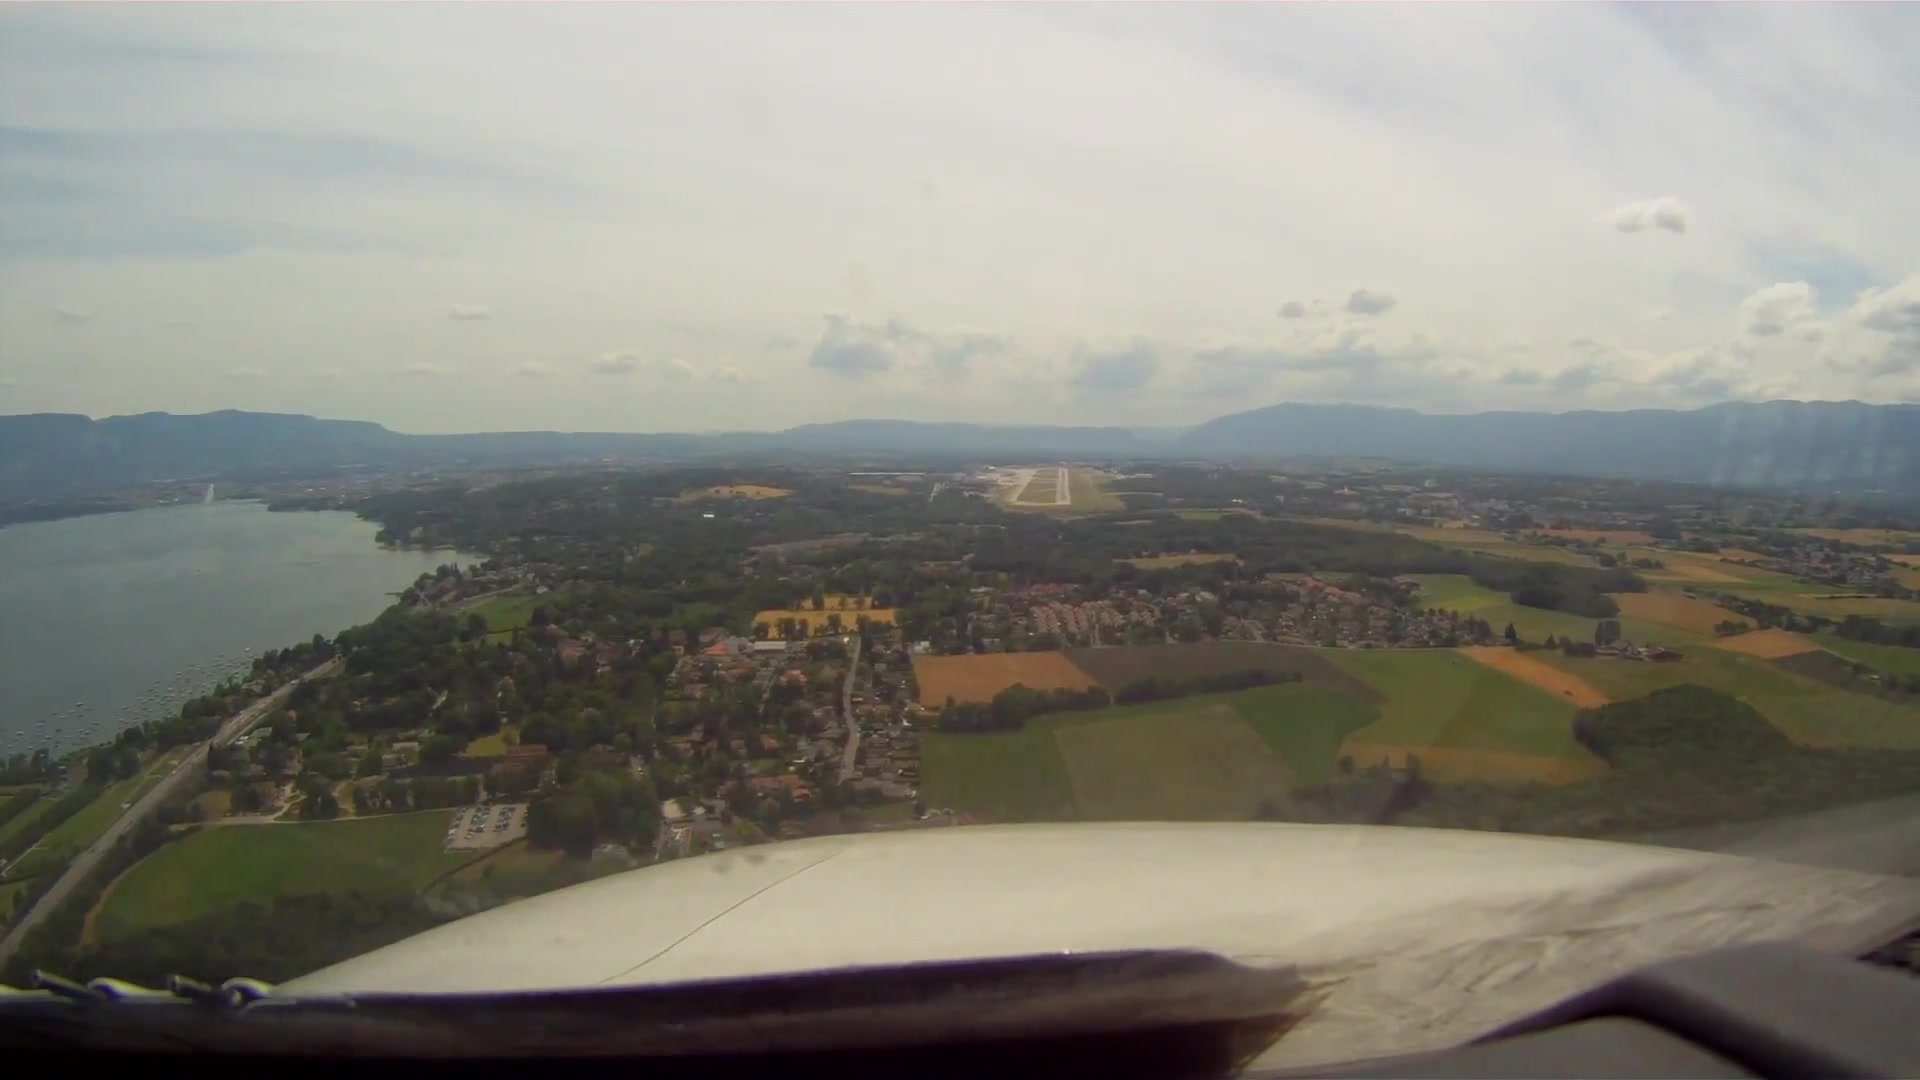runway: (1055, 465, 1072, 508)
